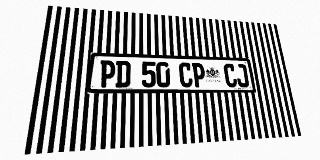0: (156, 62, 170, 87)
5: (142, 61, 156, 87)
C: (179, 62, 193, 87), (223, 64, 238, 87)
D: (115, 61, 131, 87)
J: (235, 64, 249, 87)
P: (99, 60, 116, 87), (192, 63, 206, 87)
